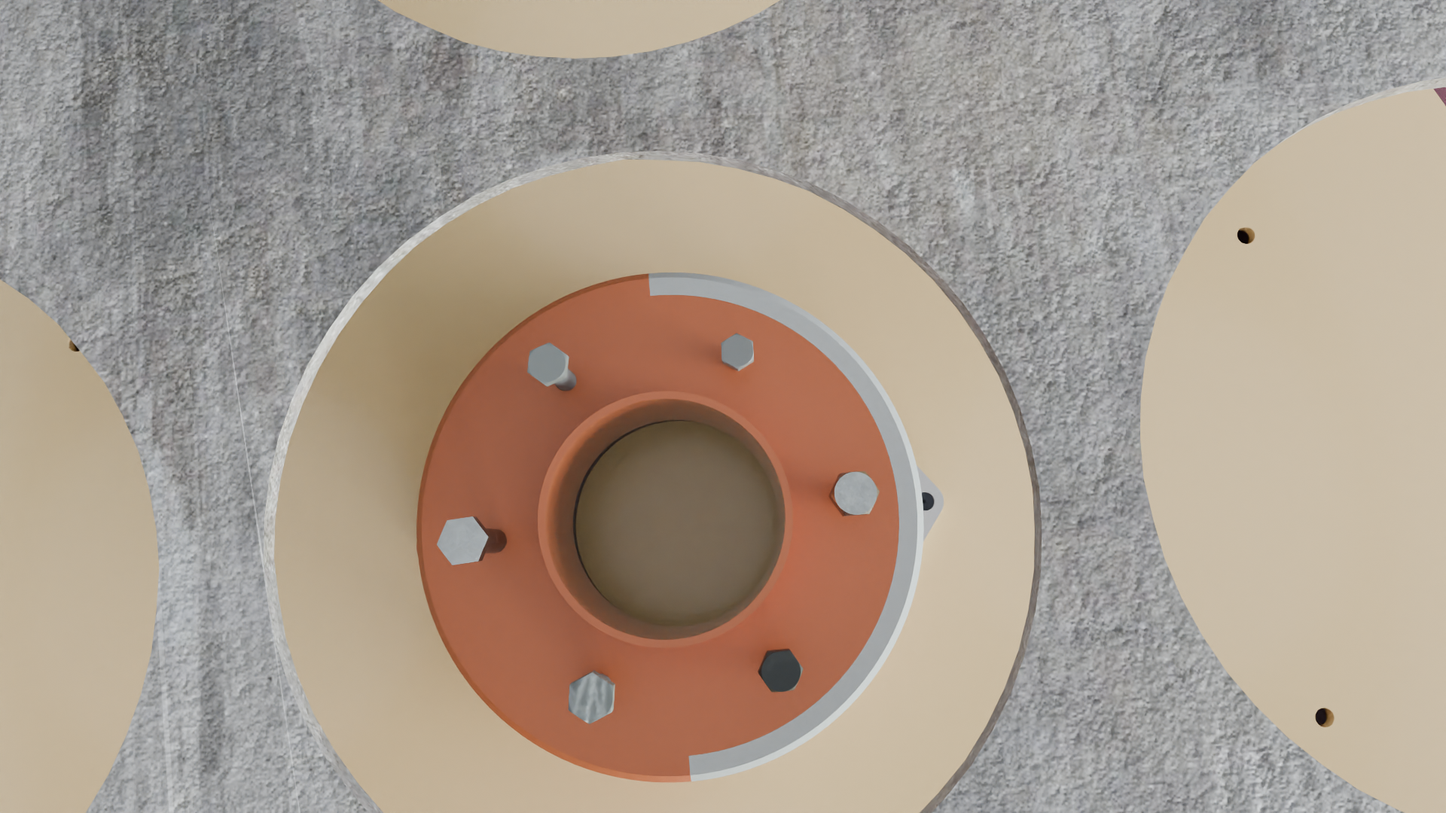bolt: (437, 516, 488, 565), (568, 672, 614, 724), (831, 471, 880, 516), (758, 650, 804, 693), (527, 343, 567, 385), (721, 333, 754, 369)
